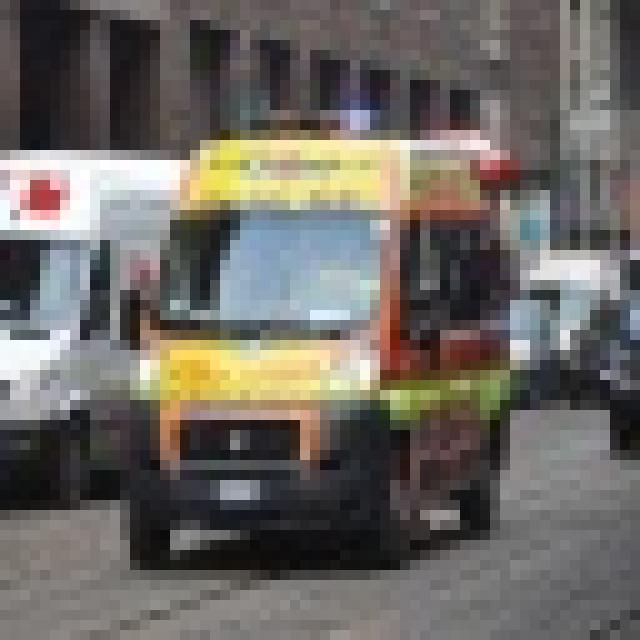Ambulance: (120, 110, 520, 560)
